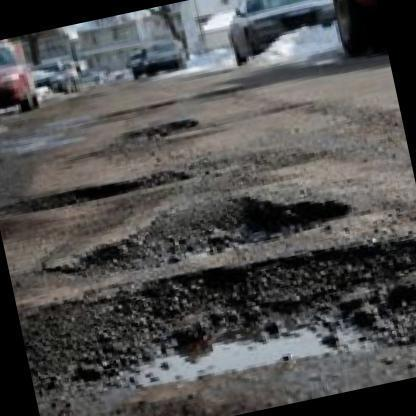pothole: (2, 232, 416, 416), (31, 194, 351, 283), (0, 168, 190, 218), (119, 116, 201, 151)
